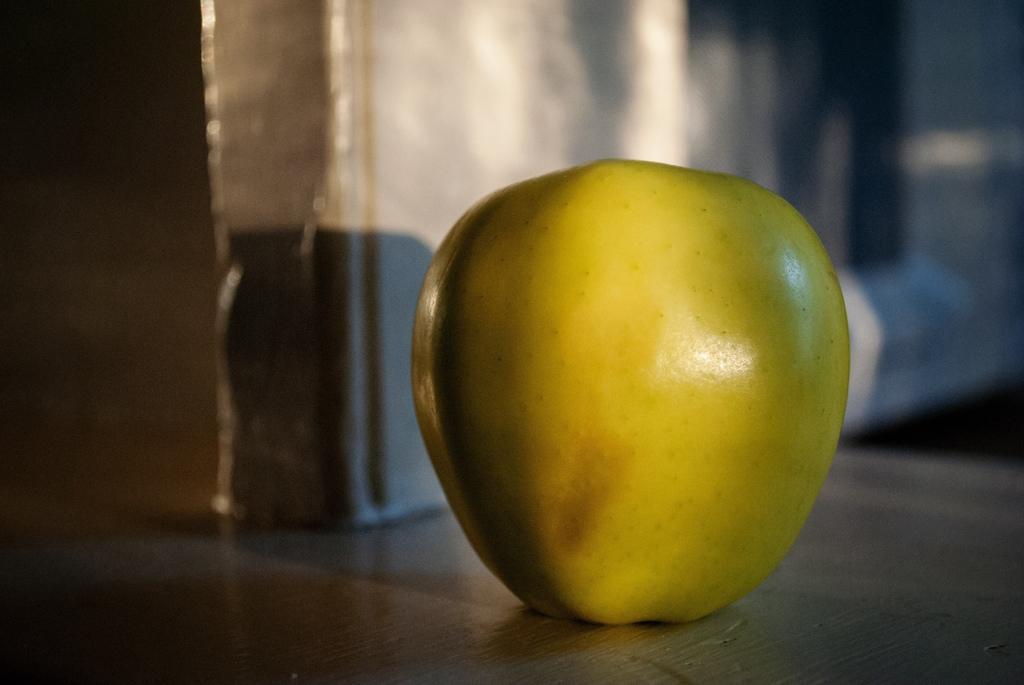Apple: (398, 125, 874, 622)
